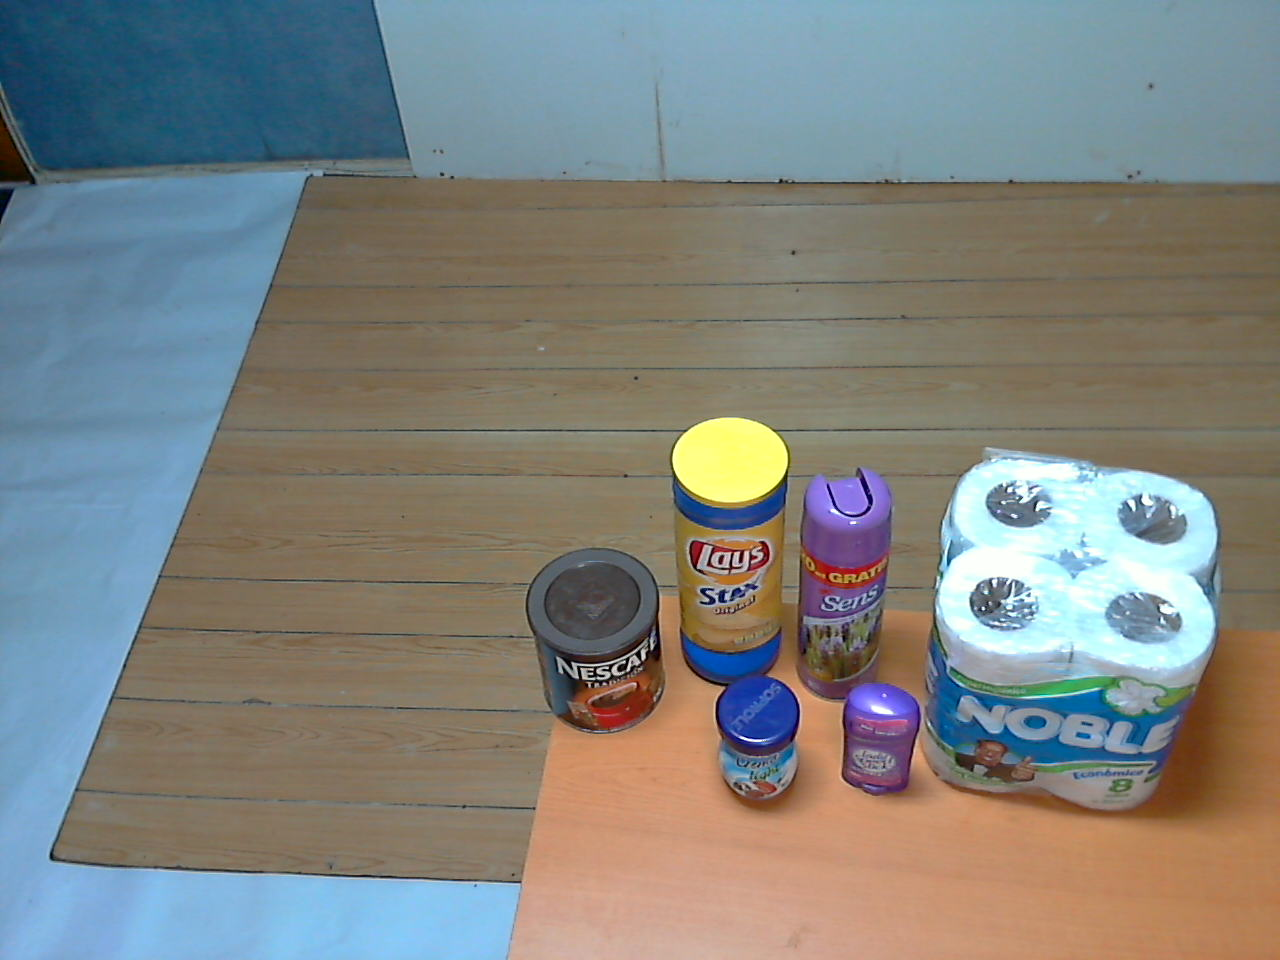aerosol: (782, 460, 896, 706)
cafe: (520, 539, 677, 738)
confort: (910, 435, 1230, 823)
crema: (705, 669, 816, 817)
desodorante: (830, 673, 929, 803)
papas: (661, 407, 794, 700)
